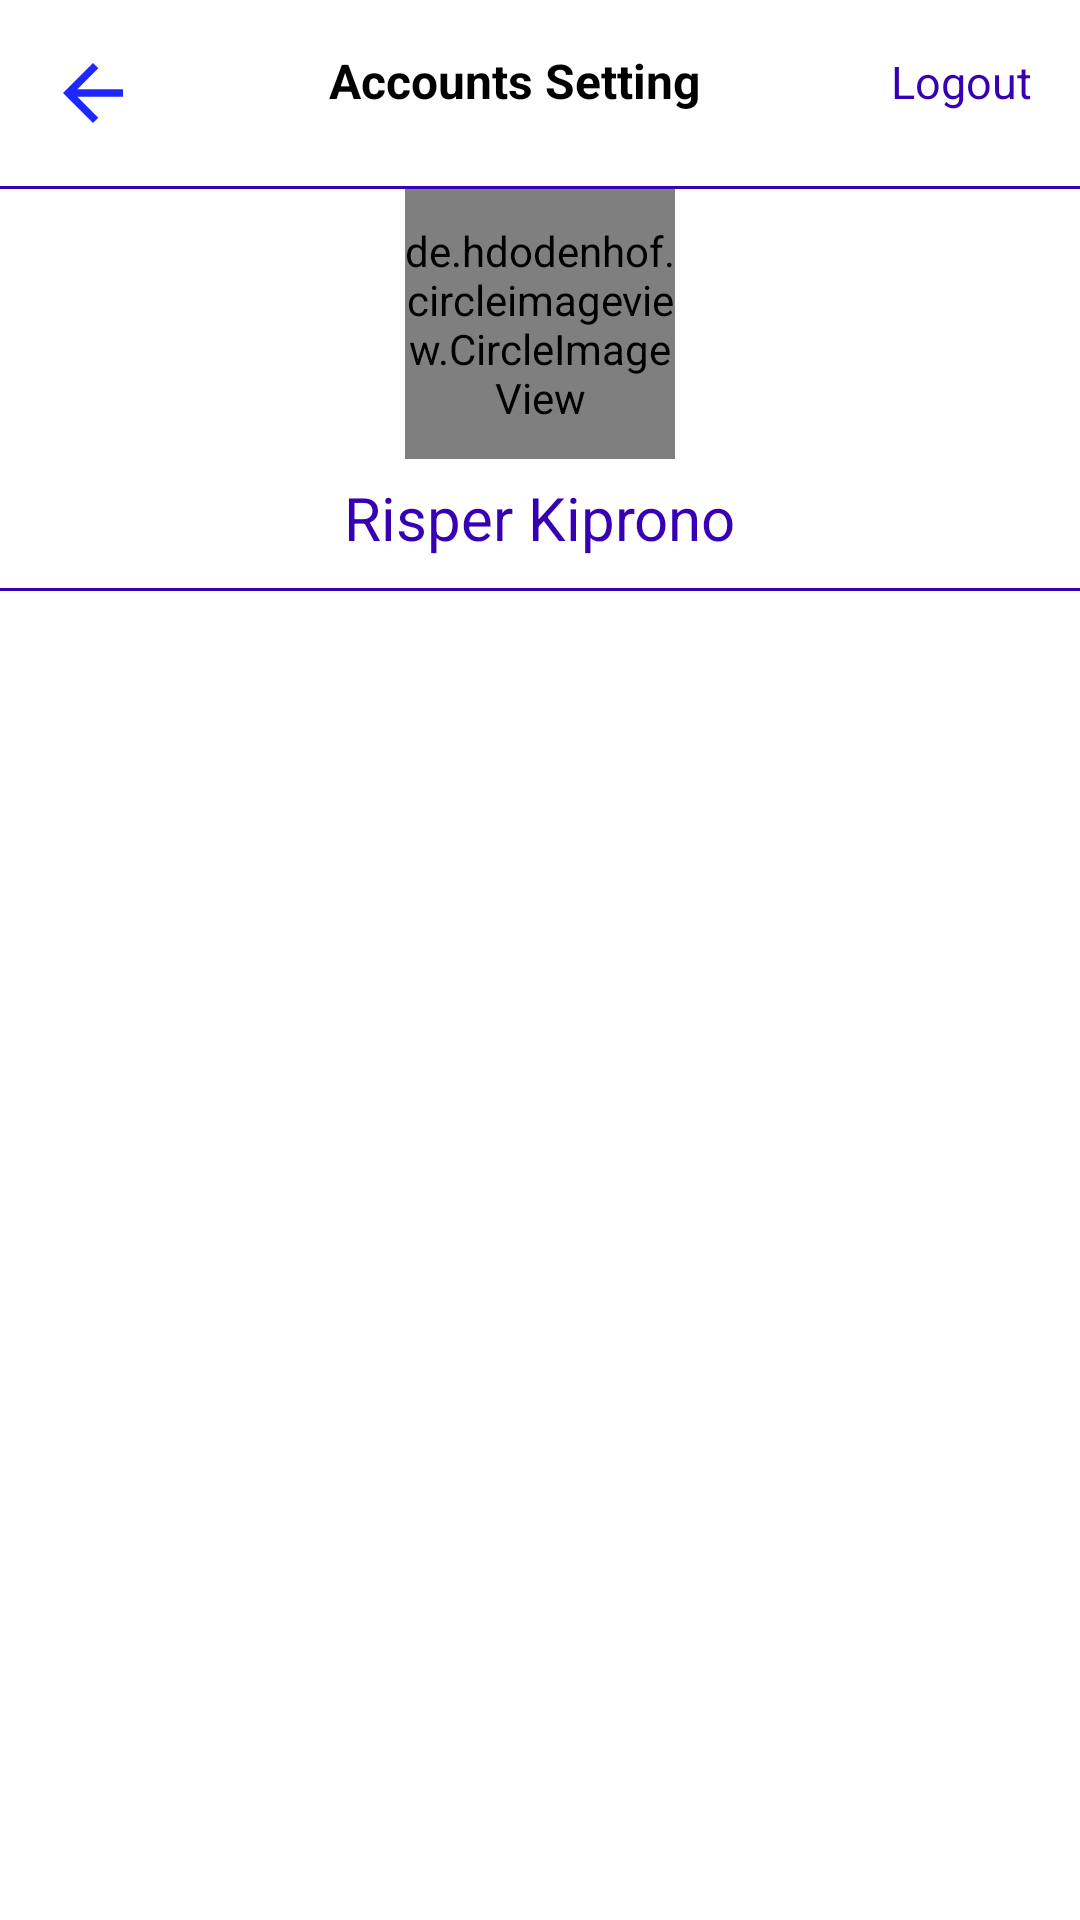

Icon bounding boxes for this 1080 x 1920 phone screenshot, format [x1,y1,x2,y2]:
arrow back: [63,63,123,123]
